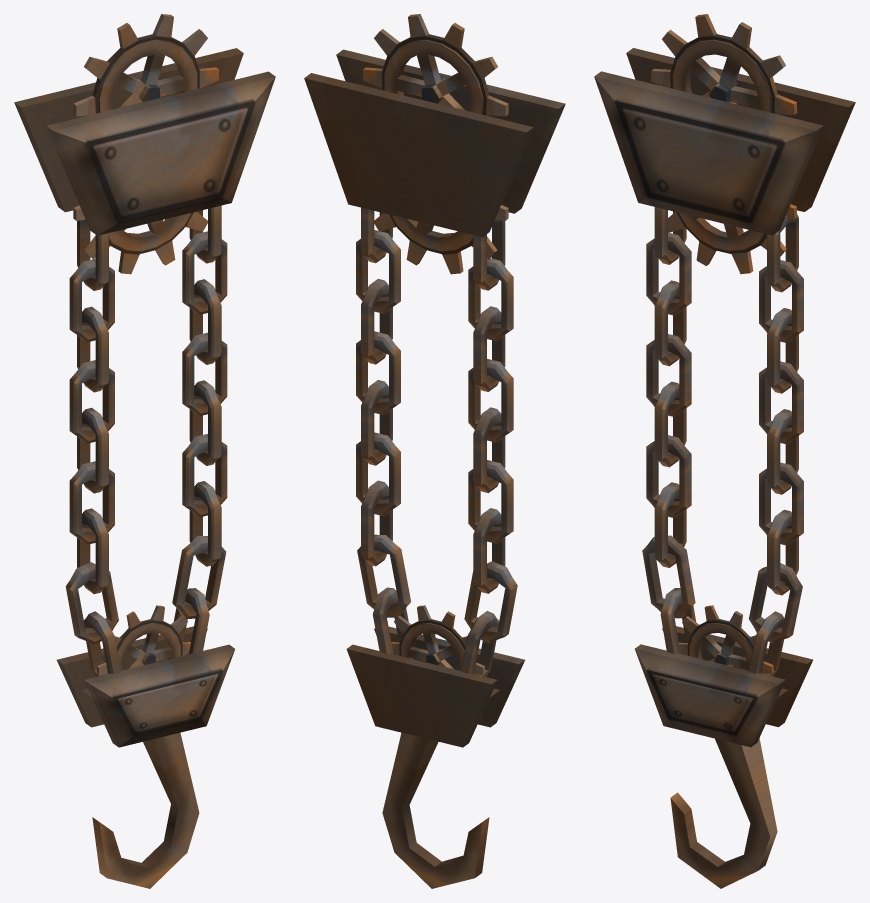
The model's file is prop_FG01.fbx.
3 views of the same model, side by side, from view 1: azimuth 30°, elevation 25°; view 2: azimuth 150°, elevation 25°; view 3: azimuth 330°, elevation 25° (orthographic).
Visible parts, largest first — view 1: polySurface50; view 2: polySurface50; view 3: polySurface50.
Part boxes in pixels (x1=…): polySurface50: x1=14, y1=14, x2=275, y2=888; polySurface50: x1=304, y1=14, x2=565, y2=888; polySurface50: x1=594, y1=14, x2=855, y2=888.
Size of the model in its own units: 8.59 by 32 by 3.01.
